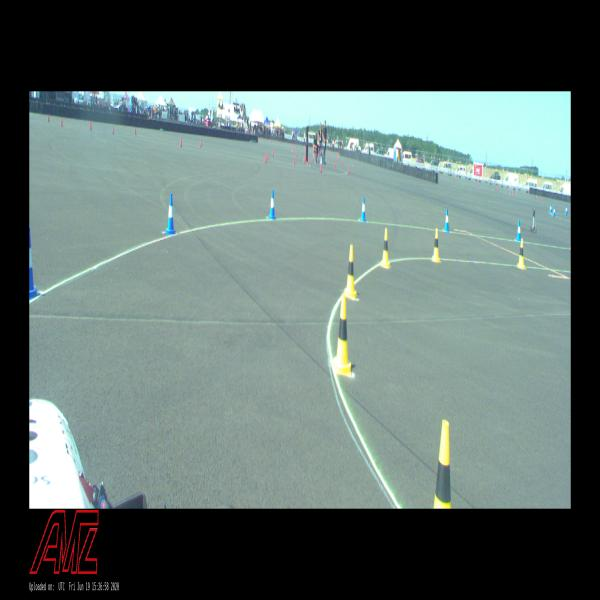blue_cone: (30, 226, 40, 300), (164, 194, 176, 235), (268, 190, 276, 220), (360, 197, 367, 222), (444, 210, 450, 232), (516, 220, 521, 242), (549, 203, 552, 214), (565, 205, 568, 214), (553, 206, 555, 217)
yellow_cone: (434, 420, 451, 508), (333, 296, 351, 376), (344, 245, 358, 300), (381, 228, 391, 268), (432, 228, 442, 264), (517, 238, 525, 269)
